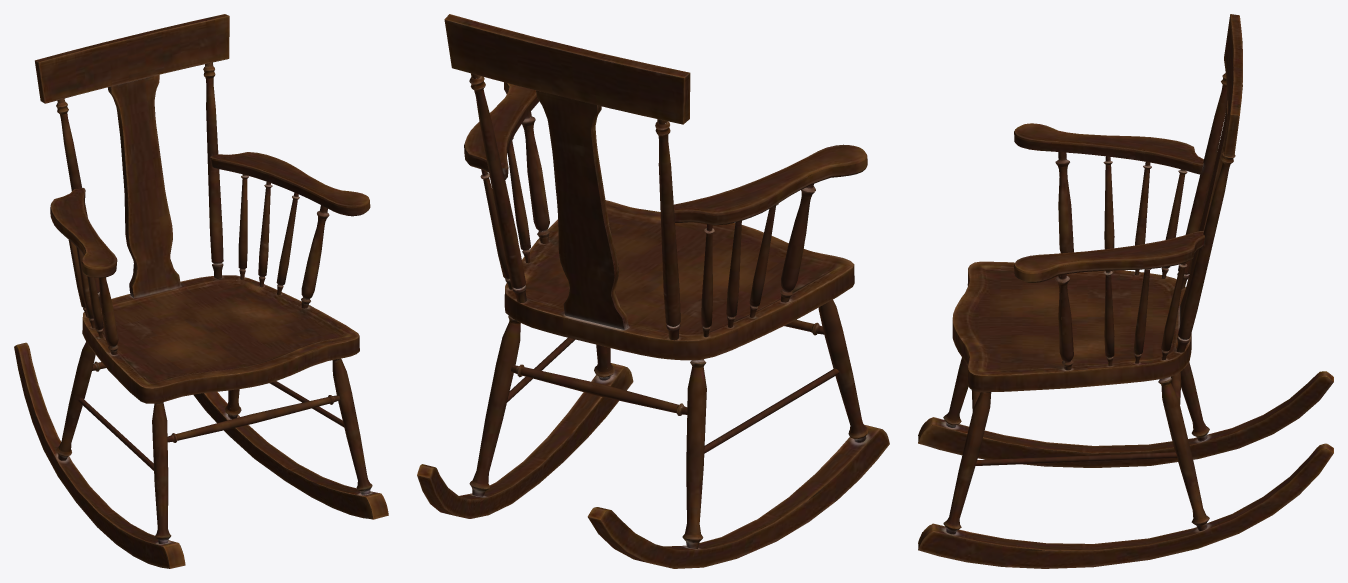
File: Rockingchair_01.glb
3 views of the same model, side by side, from view 1: azimuth 30°, elevation 25°; view 2: azimuth 150°, elevation 25°; view 3: azimuth 270°, elevation 25° (orthographic). The views are drawn at different scales.
Visible parts, largest first — view 1: Rockingchair_01; view 2: Rockingchair_01; view 3: Rockingchair_01.
Part boxes in pixels (<box>): Rockingchair_01: <box>14,14,388,568</box>; Rockingchair_01: <box>417,14,889,568</box>; Rockingchair_01: <box>918,14,1333,568</box>.
Size of the model in its own units: 0.7086 by 0.9949 by 0.8337.
Materials: 1 (1 with a texture image).
